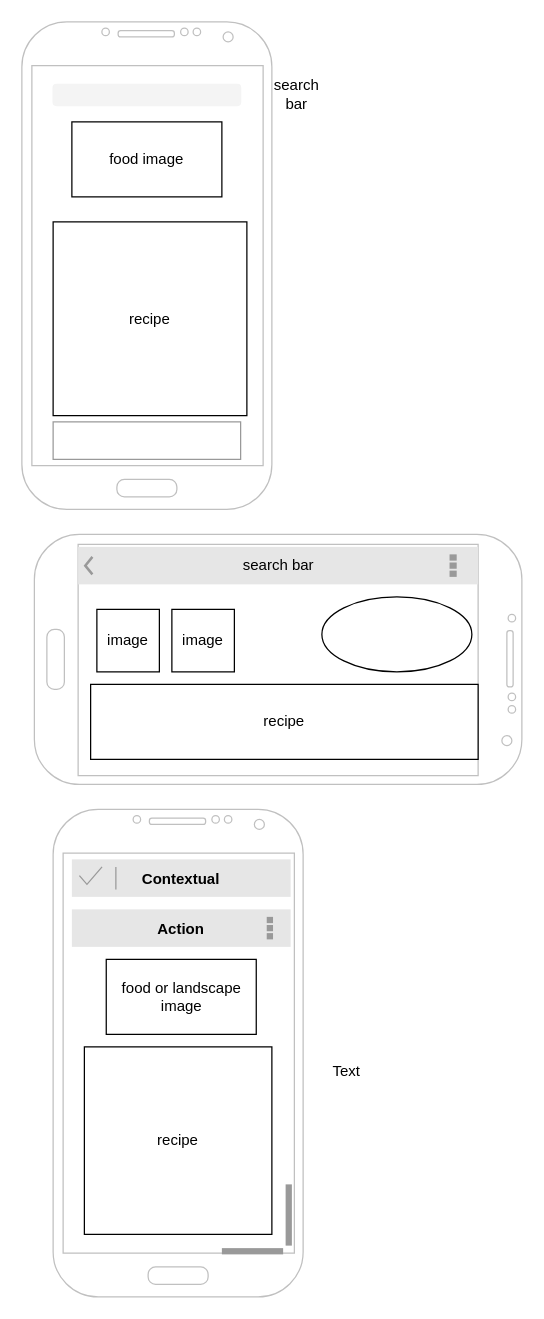
The diagram is 544 pixels wide and 1319 high, and some of its shapes have lost their labels. Here are the shapes that lost their labels. From the top down, the box of each, then its label:
(52, 83, 241, 106): Disabled
(52, 421, 241, 459): secure login area
(321, 596, 472, 672): ads
